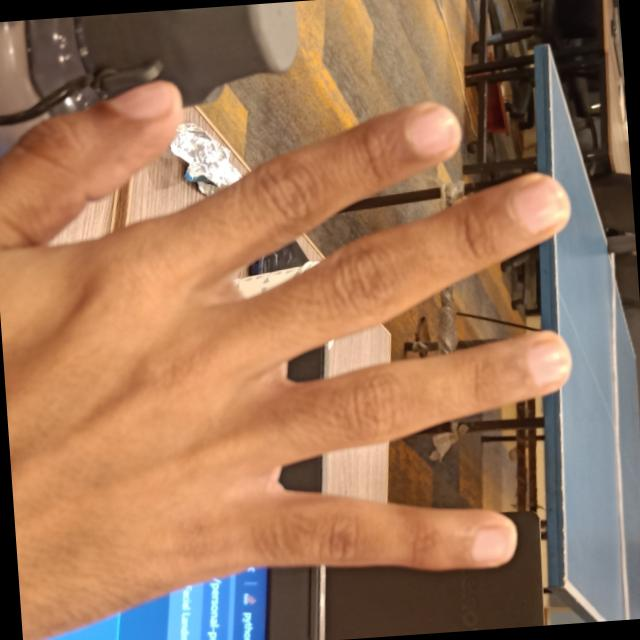Nail: (513, 177, 569, 233), (404, 104, 459, 156), (108, 82, 177, 119), (525, 338, 569, 386), (470, 525, 515, 561)
